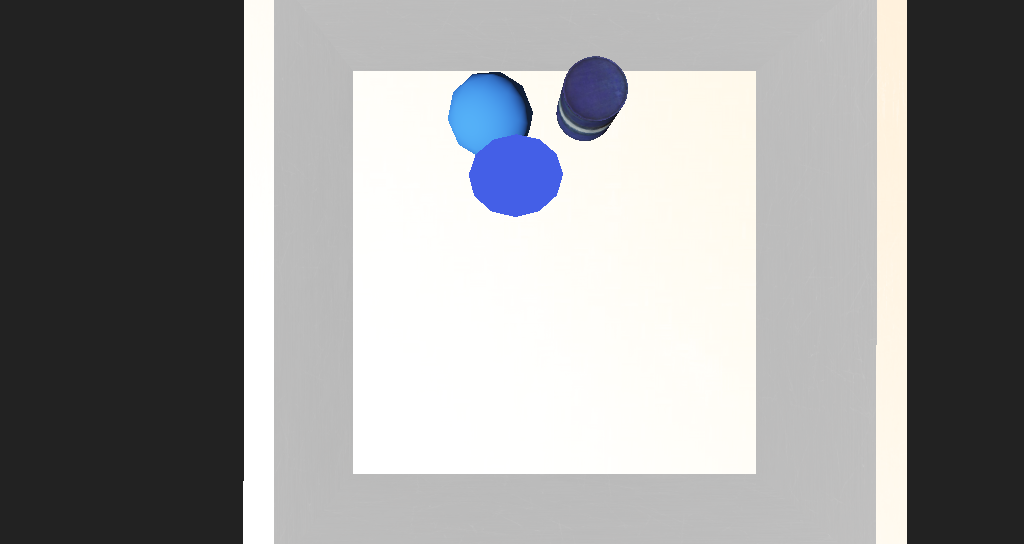cone: (509, 160, 556, 203)
cylinder: (438, 198, 505, 260)
sphere: (428, 162, 488, 210)
